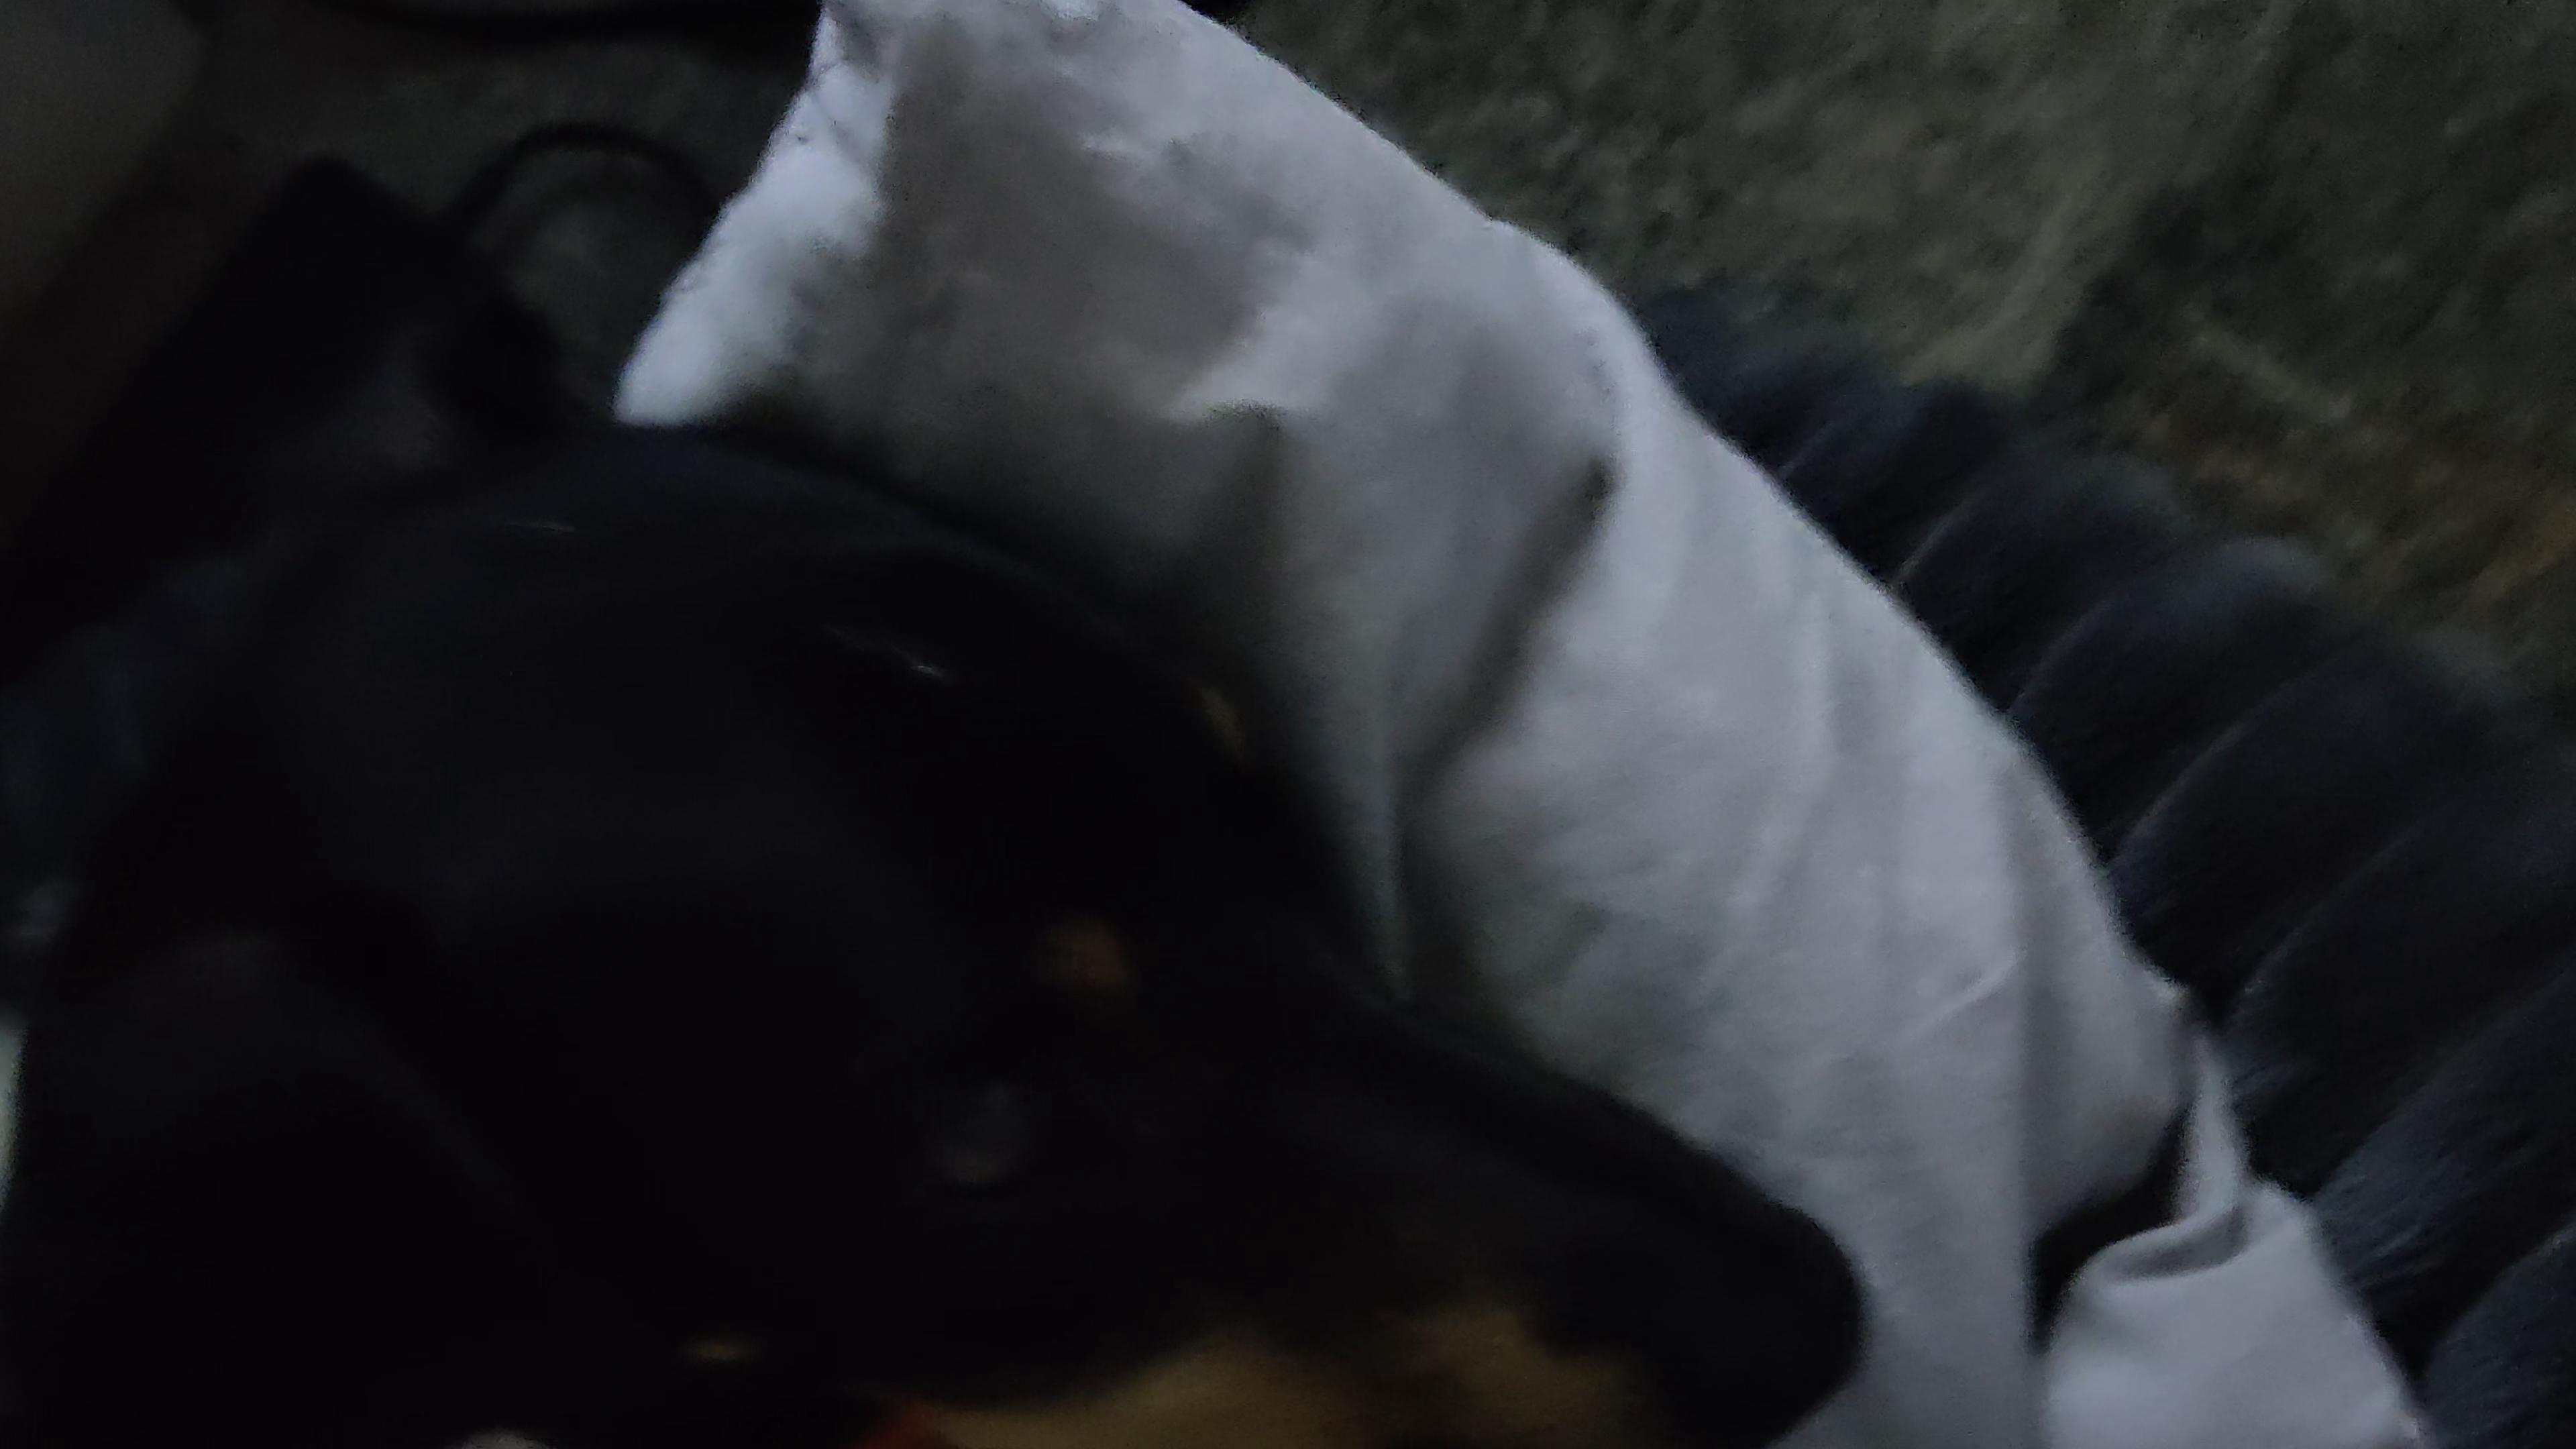Dog: (4, 239, 1893, 1449)
